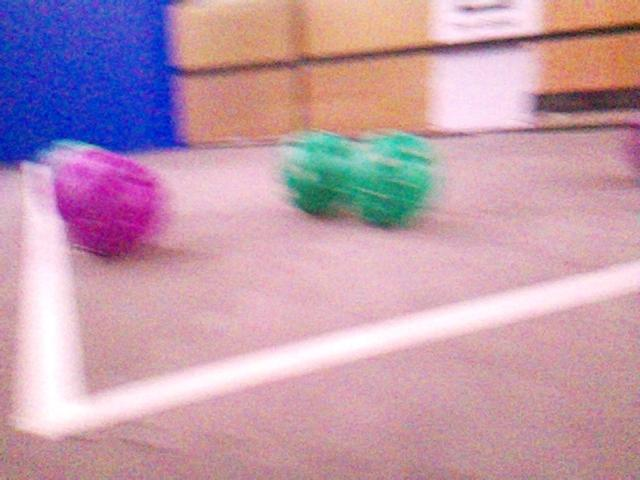Green: (348, 132, 441, 225), (283, 135, 360, 218)
Purple: (57, 149, 163, 258)
